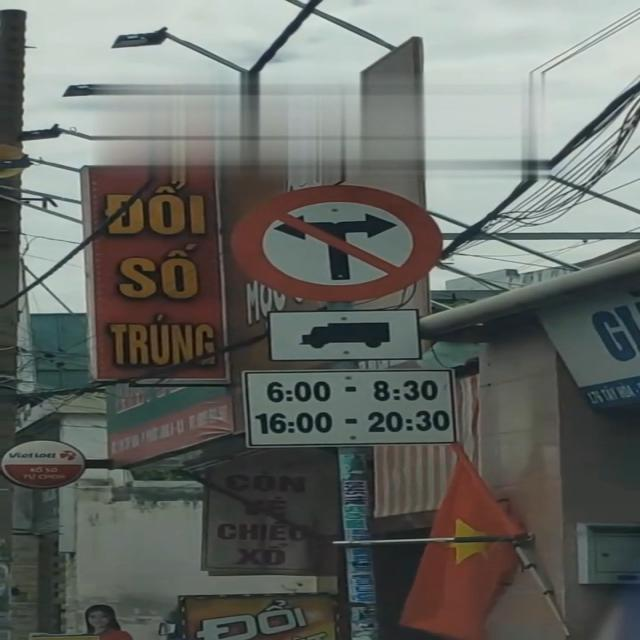137-cam-re-trai-va-re-phai: (228, 182, 440, 294)
